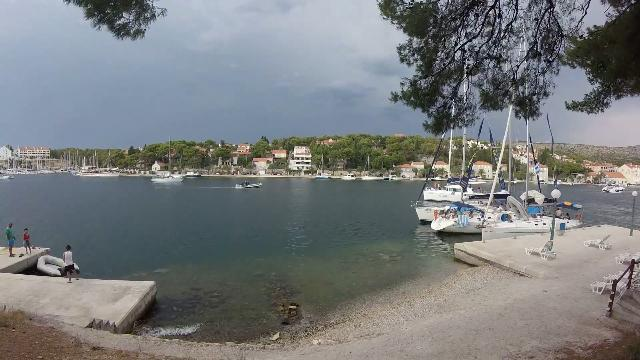Sailboat: (147, 172, 187, 186), (1, 172, 18, 182)
speedboat: (234, 178, 268, 190)
